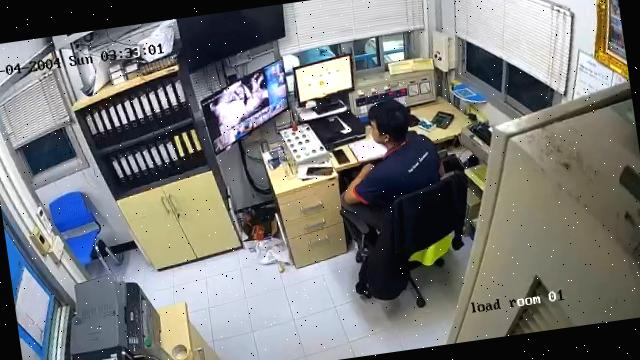Head: (366, 97, 414, 148)
People: (341, 101, 445, 230)
Phone: (330, 147, 351, 164), (305, 166, 334, 175)
